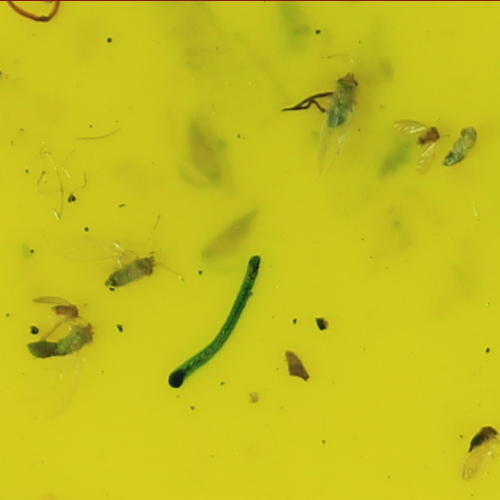psylla: (324, 68, 363, 124), (107, 249, 160, 285), (466, 424, 500, 454), (51, 299, 89, 318), (419, 122, 447, 146)
